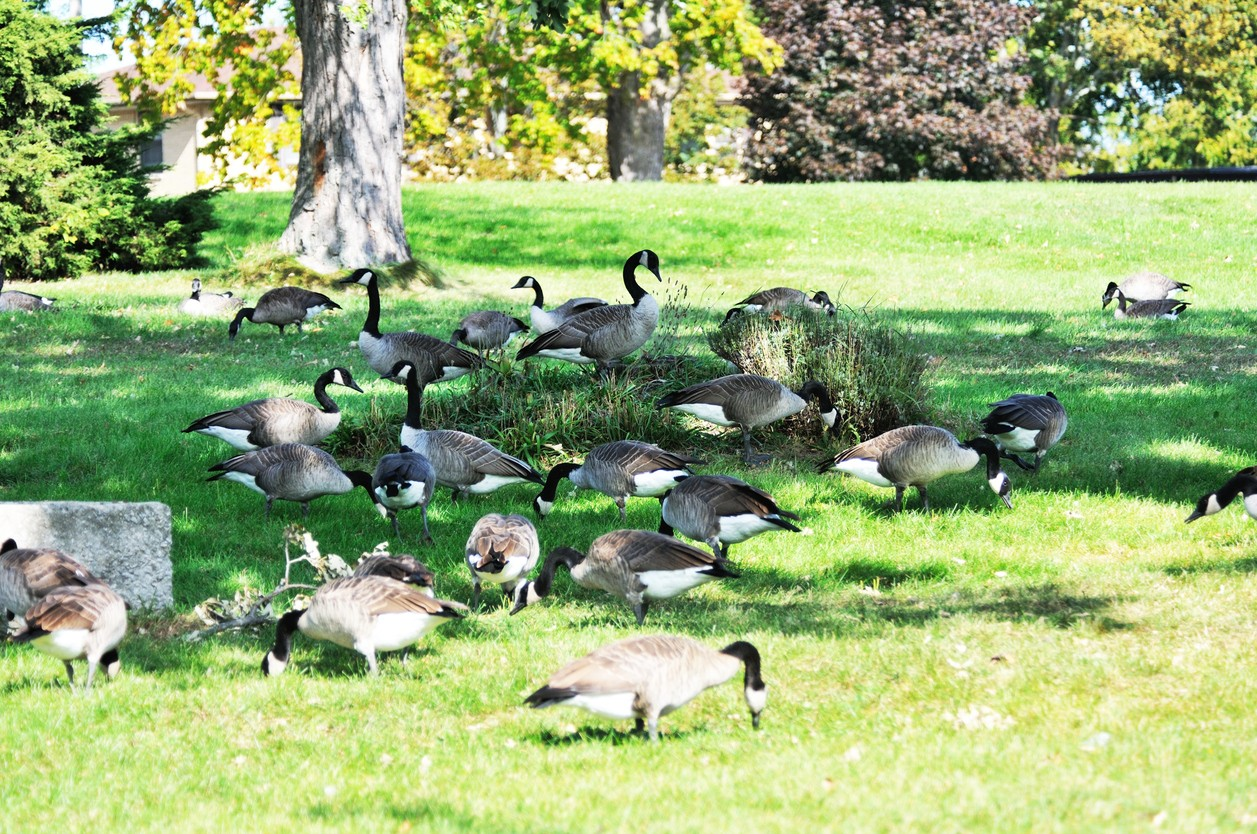goose: (515, 630, 775, 766), (238, 572, 479, 697), (817, 418, 1027, 534), (658, 374, 849, 471), (181, 373, 357, 464), (224, 286, 344, 338)
